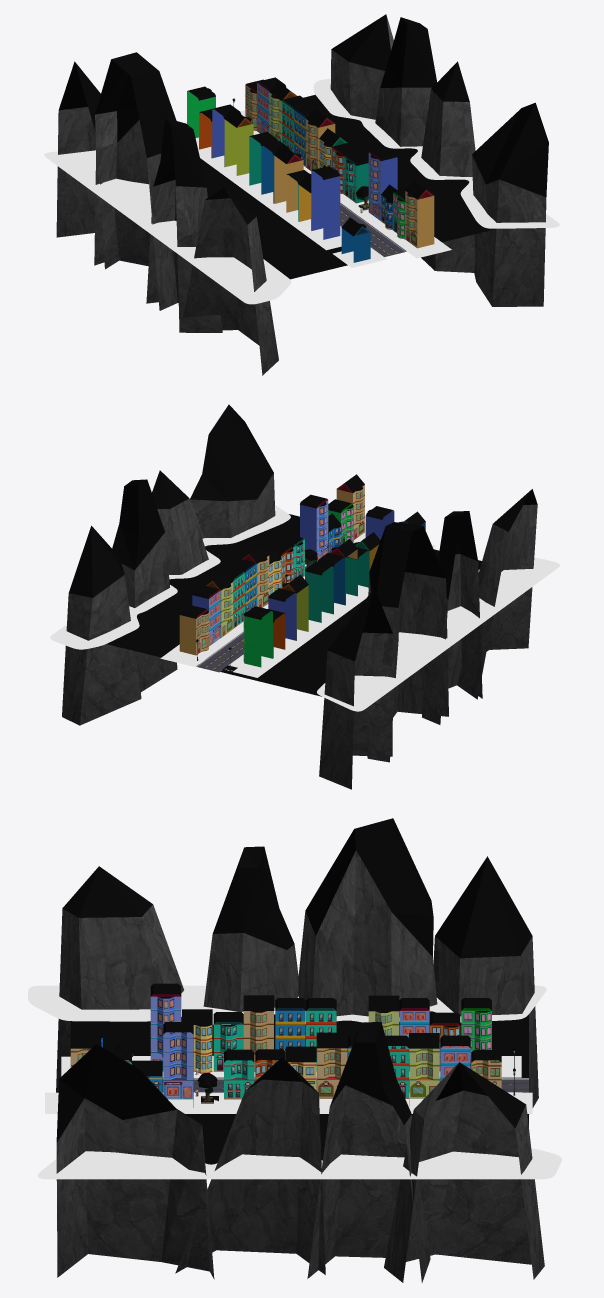
Rendered from citywinter_03.fbx.
3 views of the same model, one above another, from view 1: azimuth 30°, elevation 25°; view 2: azimuth 150°, elevation 25°; view 3: azimuth 270°, elevation 25° (orthographic). The views are drawn at different scales.
Visible parts, largest first — view 1: City_03; view 2: City_03; view 3: City_03.
Boxes of the visible parts, box(x1,y1,x2,y2) form: City_03: box(44, 14, 559, 375); City_03: box(50, 404, 559, 789); City_03: box(28, 818, 561, 1282).
Bounding box in the file's own units: 22617 × 13384 × 25170.
